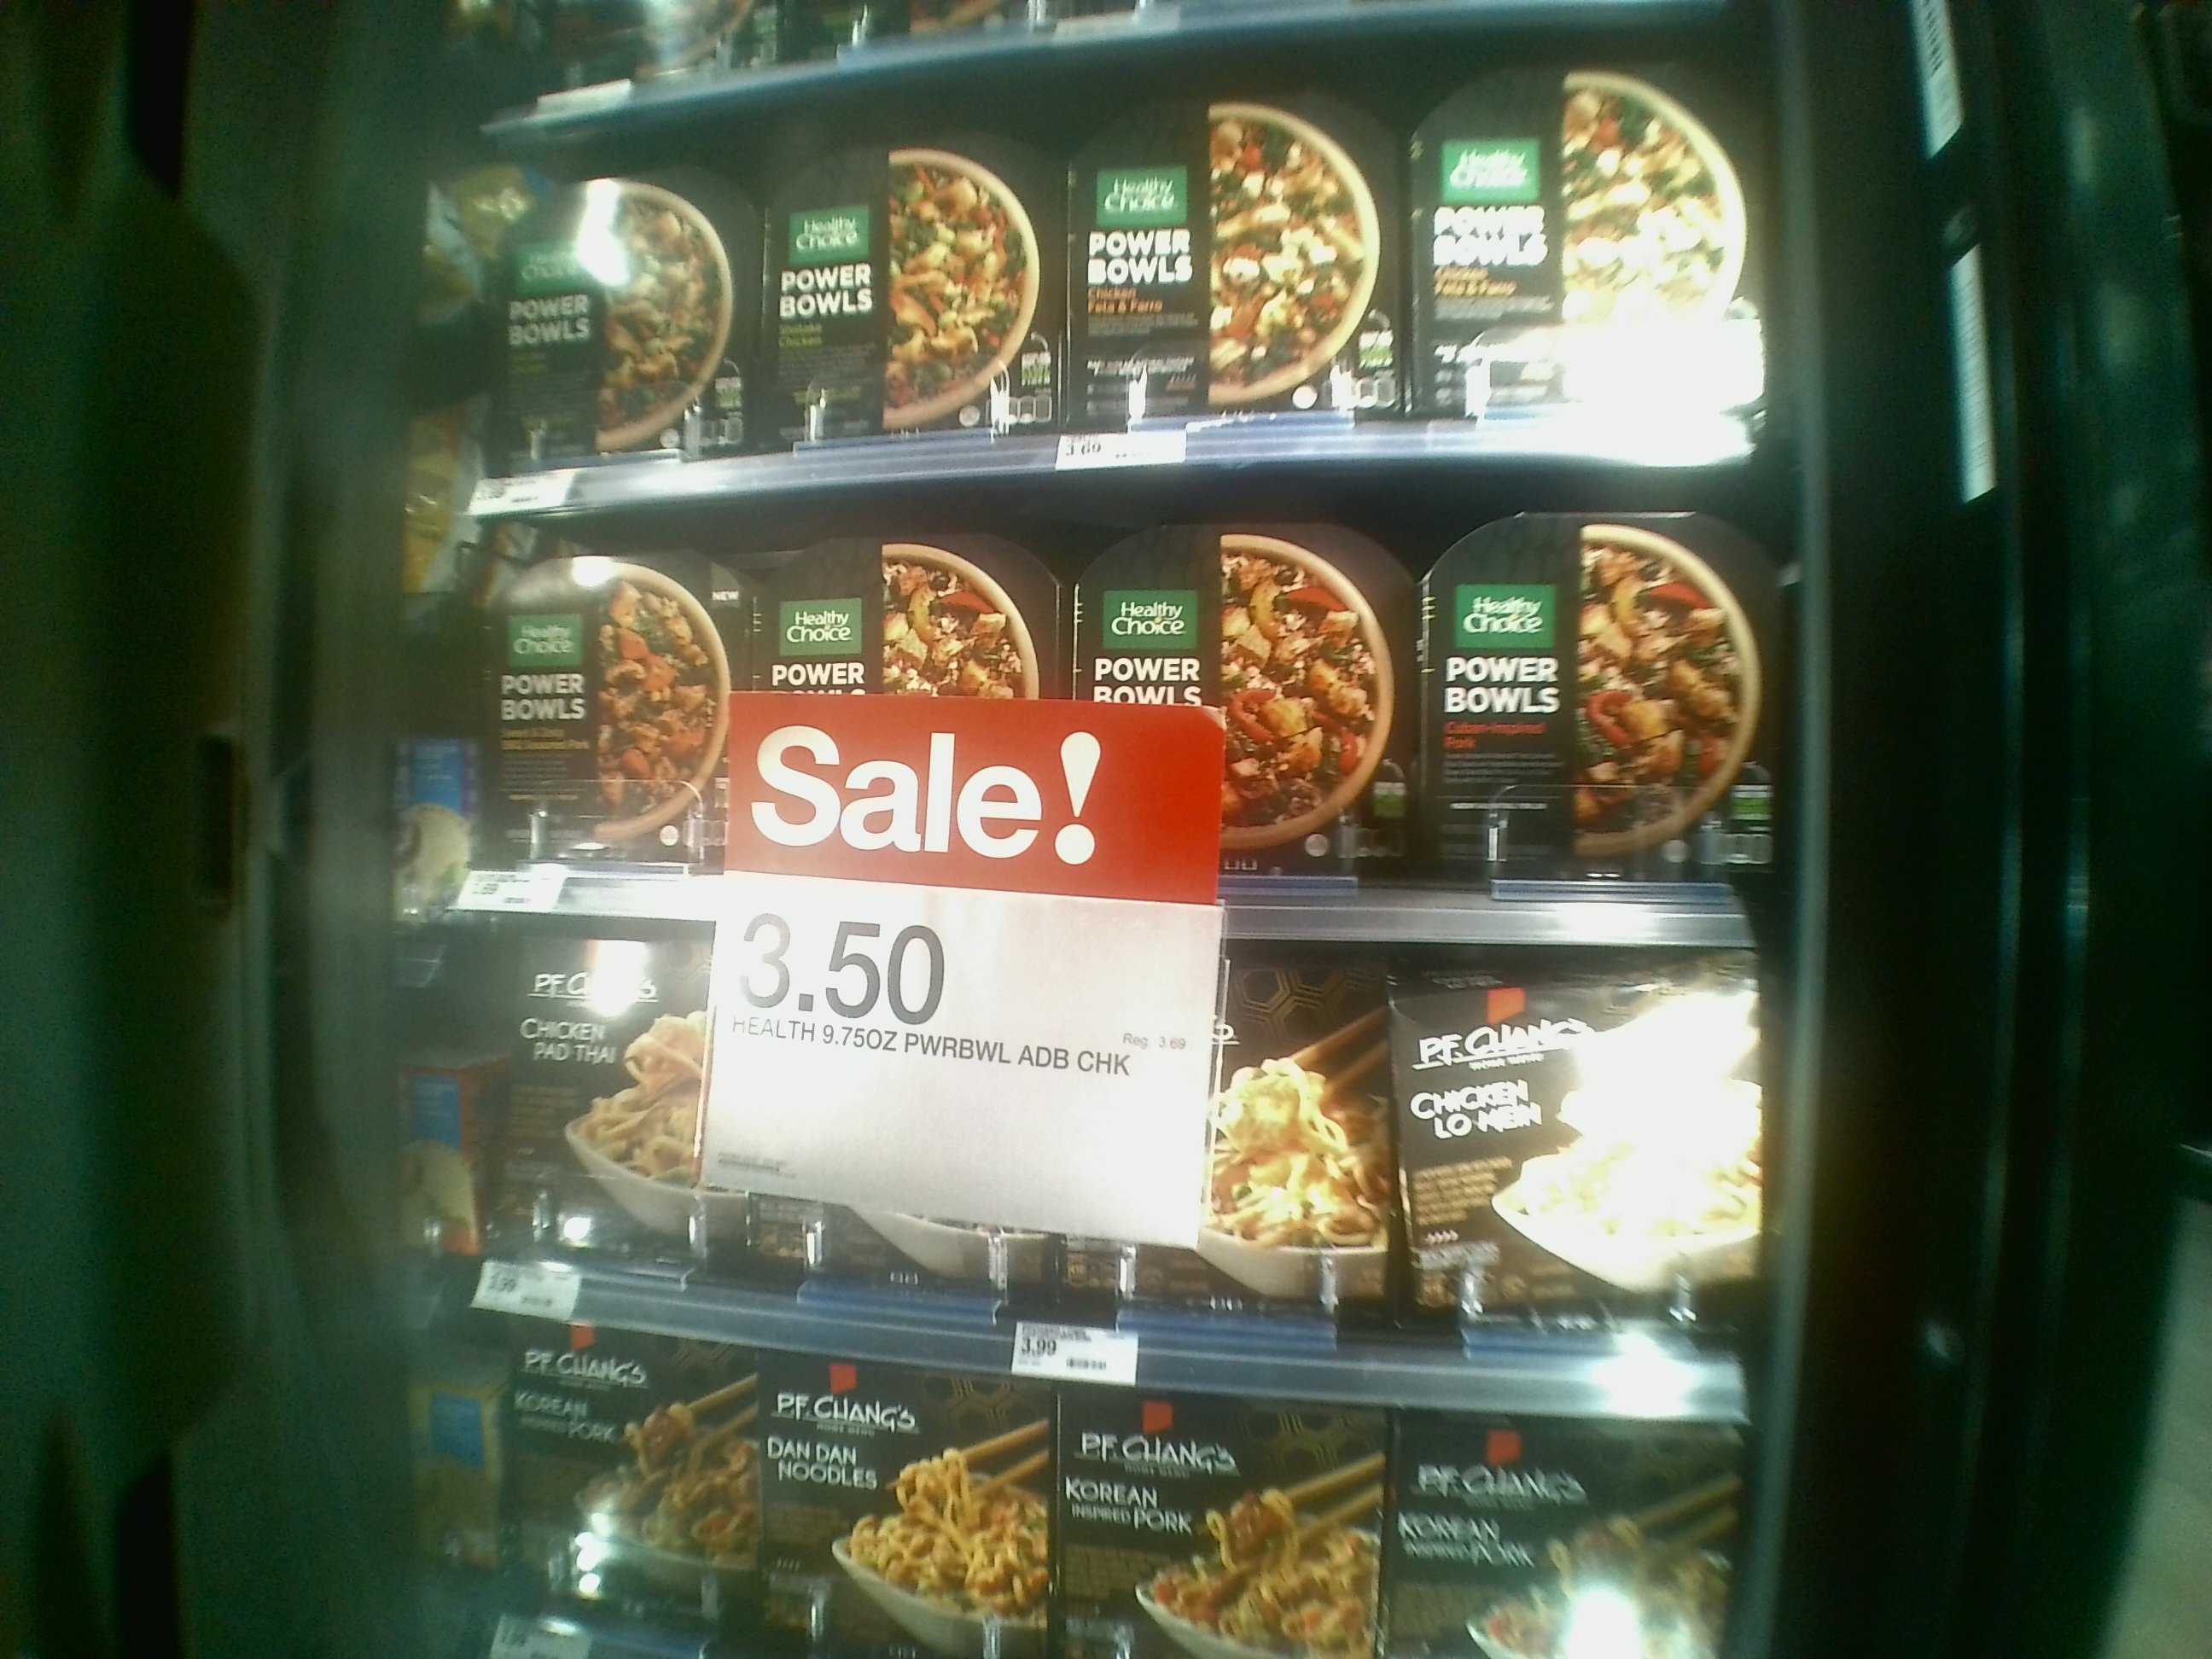shelf: (404, 457, 1771, 943), (477, 99, 1766, 505)
